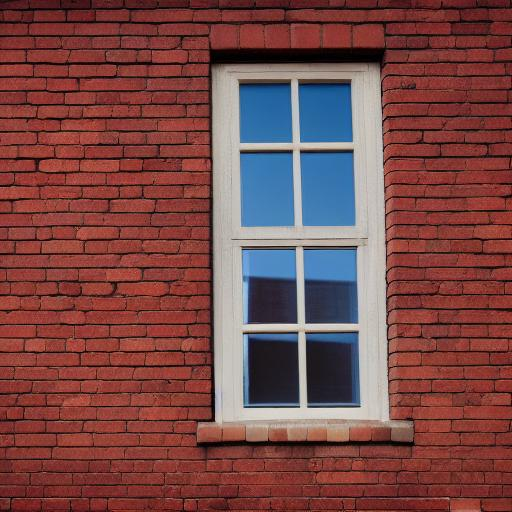Window: (194, 26, 419, 447)
